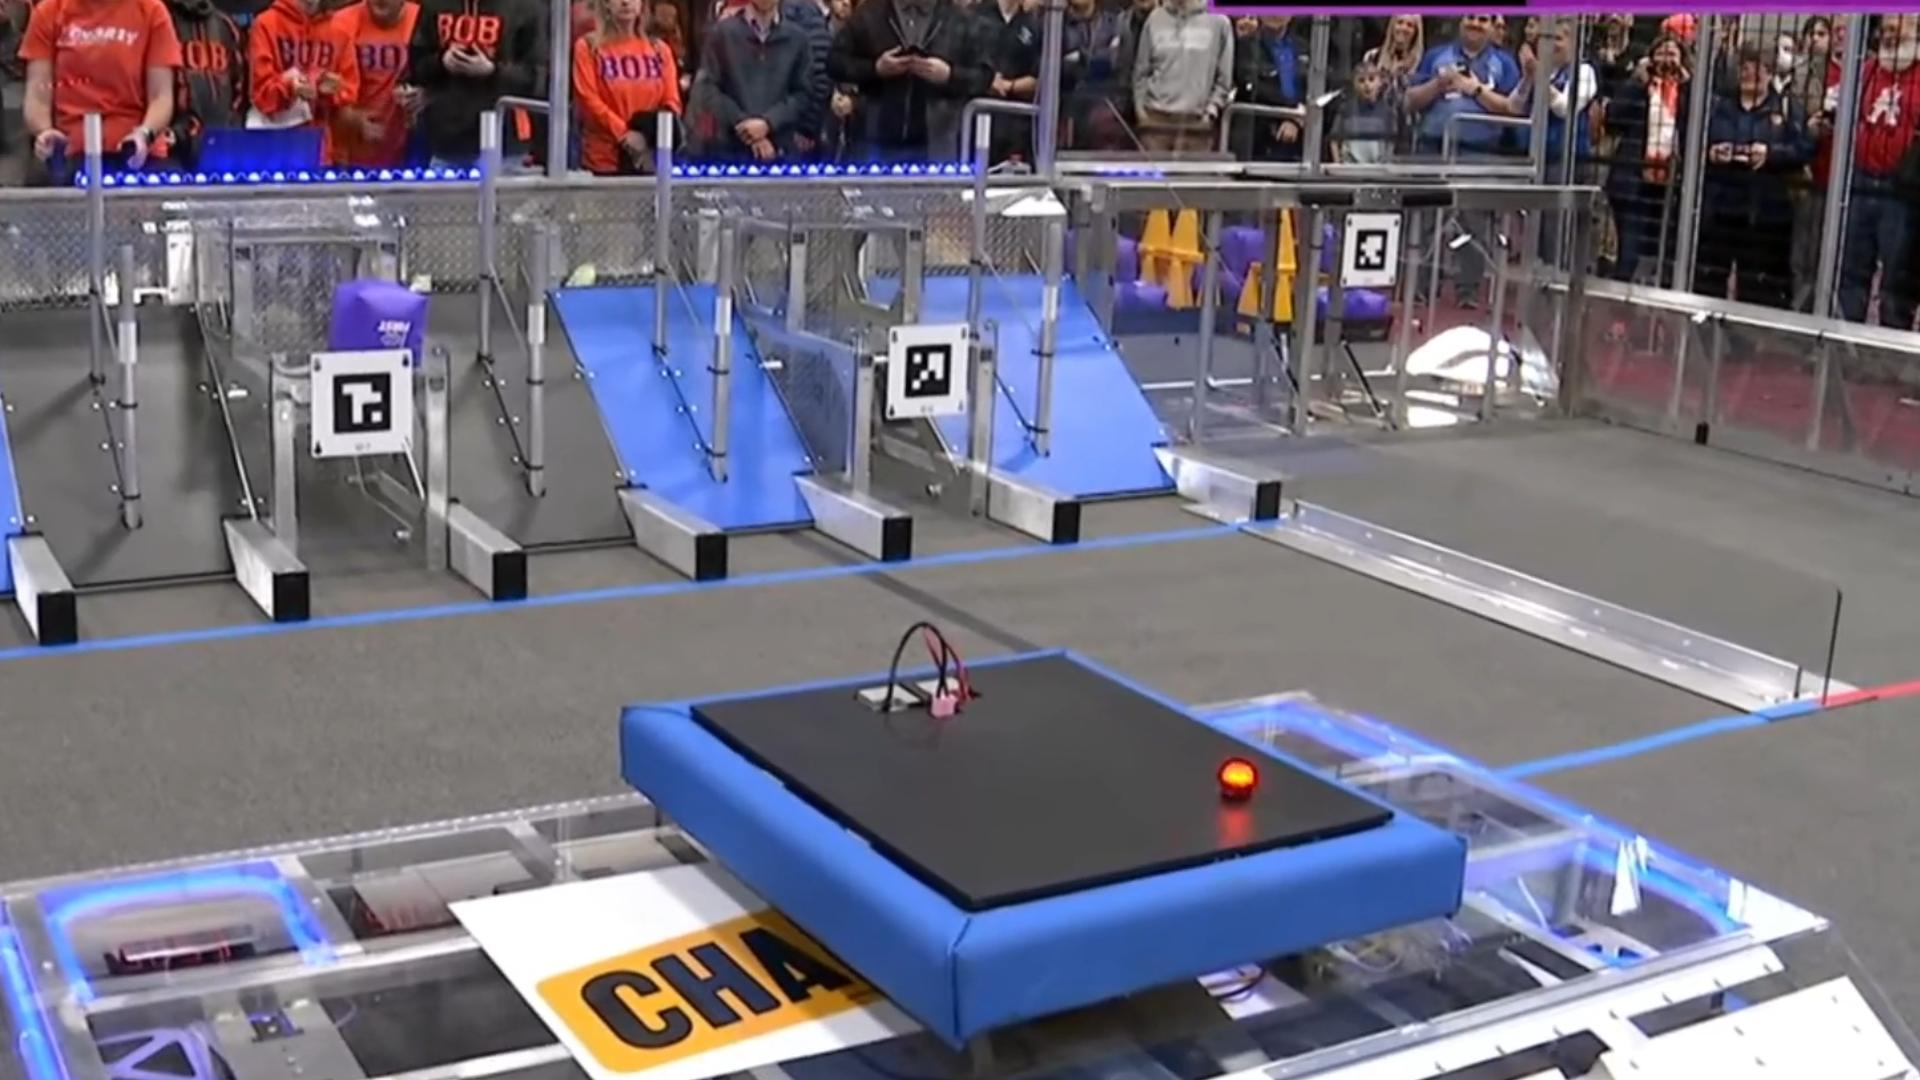robot: (600, 655, 1460, 1025)
